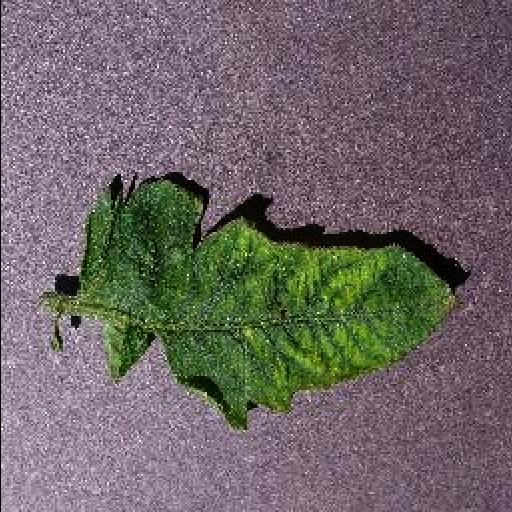disease_tomato: (78, 174, 460, 438)
